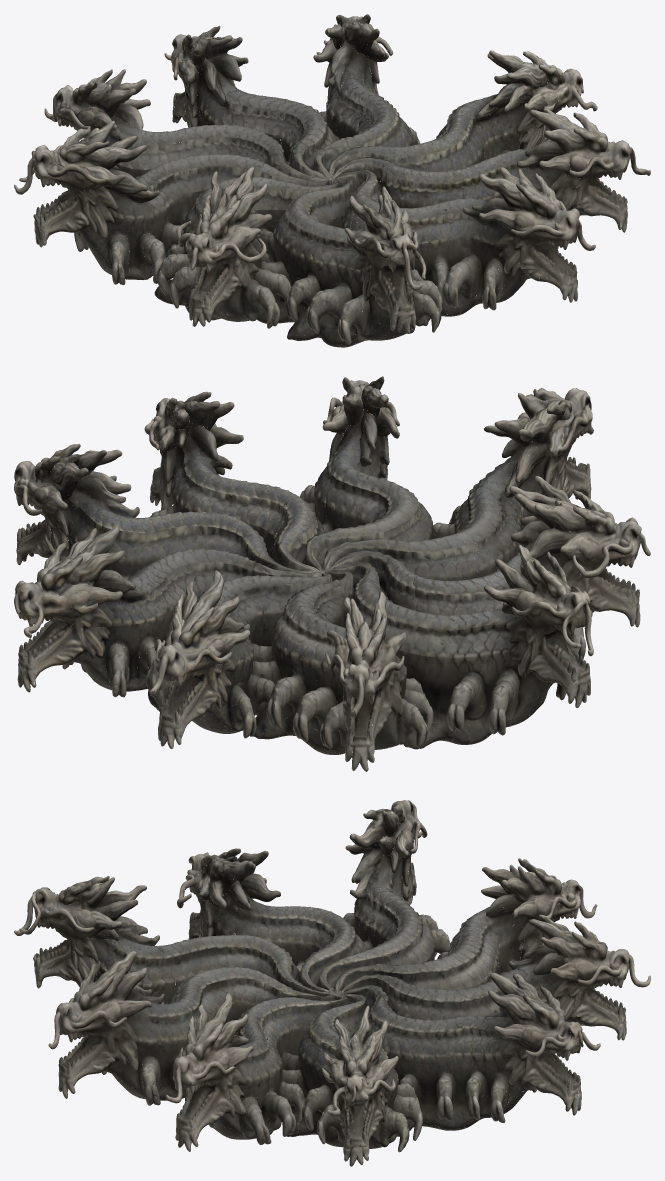
Rendered from v30-dragon.glb.
The picture shows the model from 3 angles, top to bottom: view 1: azimuth 30°, elevation 25°; view 2: azimuth 150°, elevation 25°; view 3: azimuth 270°, elevation 25°; orthographic projection. The views are drawn at different scales.
Parts seen in each view (by area): view 1: NineDragonBase_Replacement_cd83e62b; view 2: NineDragonBase_Replacement_cd83e62b; view 3: NineDragonBase_Replacement_cd83e62b.
Part boxes in pixels (box(x1,y1,x2,y2)): NineDragonBase_Replacement_cd83e62b: box(14, 14, 650, 347); NineDragonBase_Replacement_cd83e62b: box(14, 376, 650, 771); NineDragonBase_Replacement_cd83e62b: box(14, 800, 650, 1166).
Bounding box in the file's own units: 12.87 × 3.92 × 13.16.
1 material, 1 textured.
